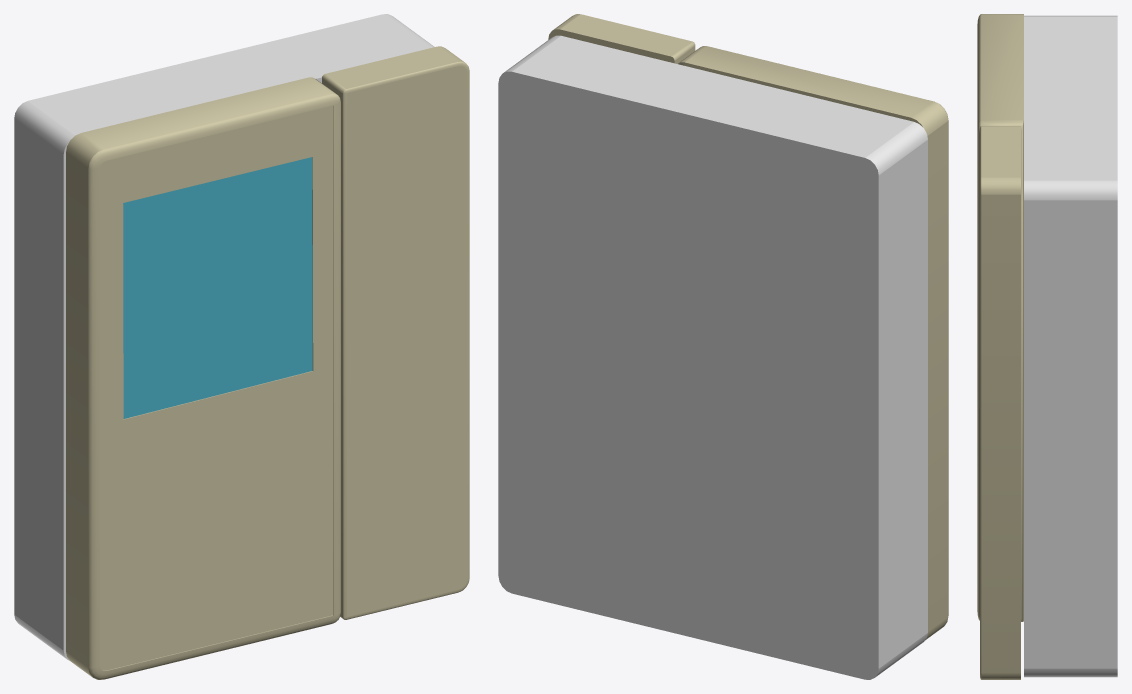
The model's file is PrelimSigmaSpectrum.fbx.
The picture shows the model from 3 angles, left to right: view 1: azimuth 30°, elevation 25°; view 2: azimuth 150°, elevation 25°; view 3: azimuth 270°, elevation 25°; orthographic projection. The views are drawn at different scales.
Visible parts, largest first — view 1: SigmaMain, SigmaDoor, SigmaBack; view 2: SigmaBack, SigmaMain, SigmaDoor; view 3: SigmaBack, SigmaDoor, SigmaMain.
Boxes of the visible parts, <box> form: SigmaMain: <box>66,77,340,679</box>; SigmaDoor: <box>322,46,469,619</box>; SigmaBack: <box>14,14,434,660</box>; SigmaBack: <box>498,35,927,679</box>; SigmaMain: <box>678,46,948,640</box>; SigmaDoor: <box>548,14,695,63</box>; SigmaBack: <box>1024,15,1117,677</box>; SigmaDoor: <box>980,126,1020,679</box>; SigmaMain: <box>977,14,1023,621</box>.
Size of the model in its own units: 5.58 by 7.39 by 1.87.
